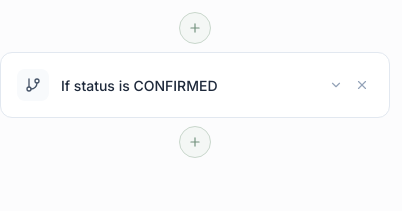
Test: AutomationStepBuilder › shows branch config fields for BRANCH type
Click the text "If status is CONFIRMED".
click(139, 86)  # box [61,77,218,94]
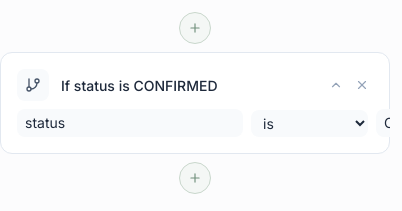
Check: the field with test id "step-branch-field" is shown, box [17,109,243,137]
Check: the dropdown with test id "step-branch-operator" is shown, box [251,110,368,136]
